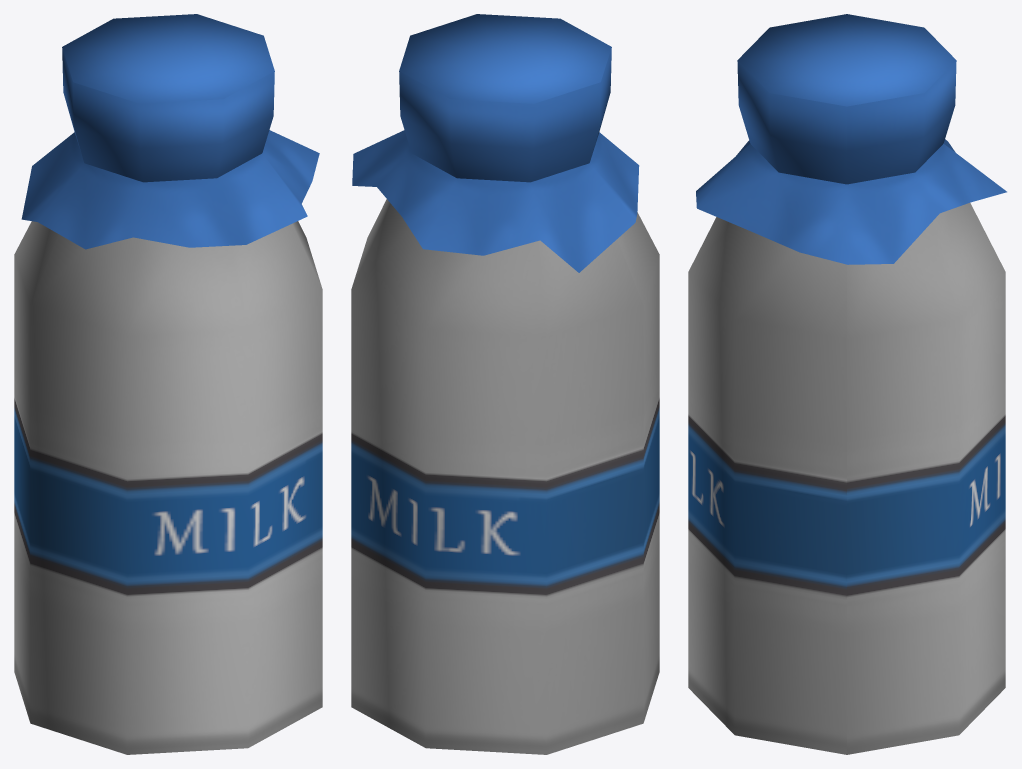
File: milk.fbx
3 renders of one model, left to right at view 1: azimuth 30°, elevation 25°; view 2: azimuth 150°, elevation 25°; view 3: azimuth 270°, elevation 25°, orthographic.
Visible parts, largest first — view 1: Milk; view 2: Milk; view 3: Milk.
Boxes of the visible parts, box(x1,y1,x2,y2) form: Milk: box(14, 14, 322, 754); Milk: box(351, 14, 659, 754); Milk: box(688, 14, 1006, 754).
Size of the model in its own units: 0.508 by 1.06 by 0.4872.
1 material, 1 textured.
